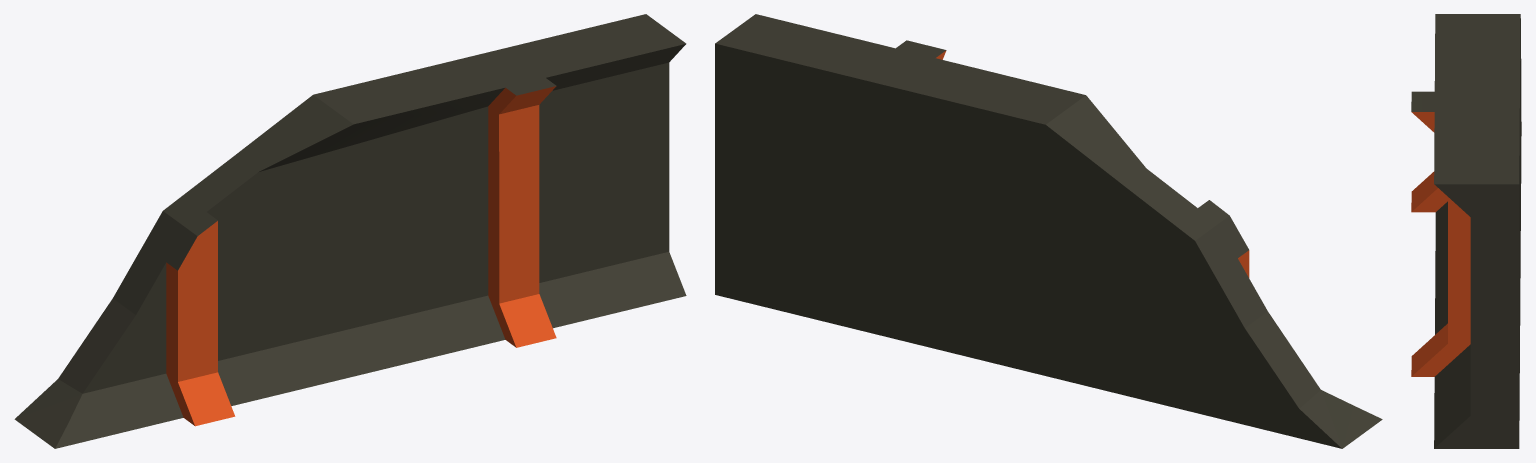
Rendered from CrackedWallShort01.fbx.
3 renders of one model, left to right at view 1: azimuth 30°, elevation 25°; view 2: azimuth 150°, elevation 25°; view 3: azimuth 270°, elevation 25°, orthographic. The views are drawn at different scales.
Visible parts, largest first — view 1: CrackedWallSmall; view 2: CrackedWallSmall; view 3: CrackedWallSmall.
Part boxes in pixels (bbox=[...]): CrackedWallSmall: bbox=[14, 14, 686, 448]; CrackedWallSmall: bbox=[715, 14, 1382, 448]; CrackedWallSmall: bbox=[1411, 14, 1521, 448].
Size of the model in its own units: 785 by 300 by 113.
